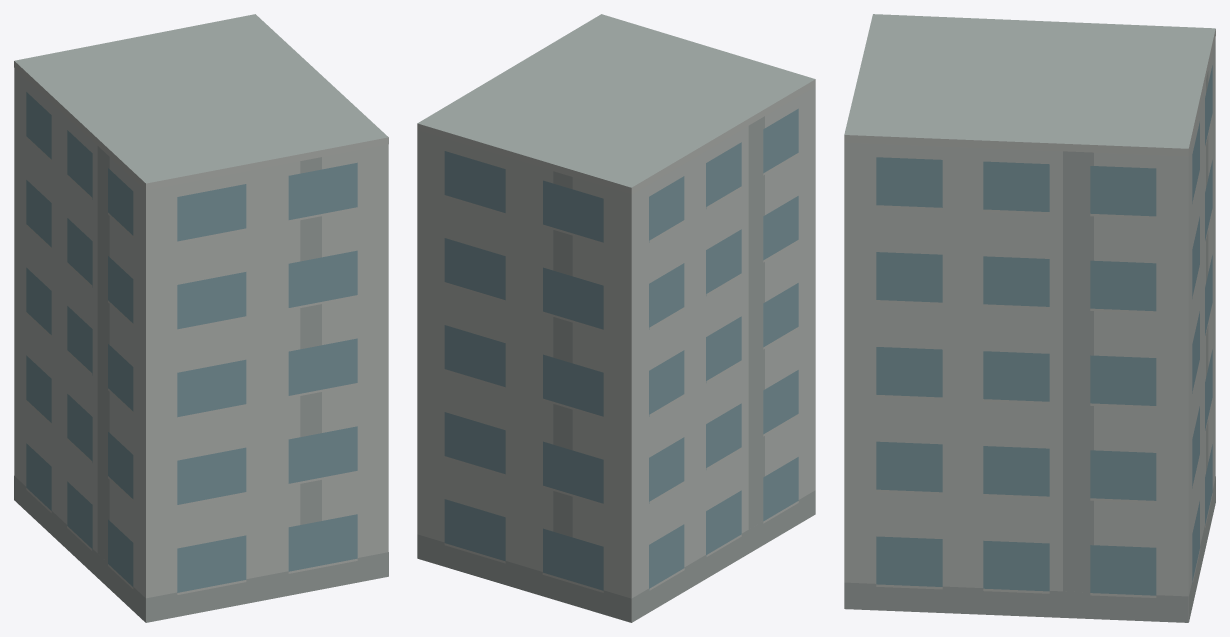
File: survey-upis-32669124.glb
The picture shows the model from 3 angles, left to right: view 1: azimuth 30°, elevation 25°; view 2: azimuth 150°, elevation 25°; view 3: azimuth 270°, elevation 25°; orthographic projection. The views are drawn at different scales.
Parts seen in each view (by area): view 1: survey-upis-32669124.tmp; view 2: survey-upis-32669124.tmp; view 3: survey-upis-32669124.tmp.
Boxes of the visible parts, box(x1,y1,x2,y2) form: survey-upis-32669124.tmp: box(14, 14, 388, 622); survey-upis-32669124.tmp: box(417, 14, 815, 622); survey-upis-32669124.tmp: box(844, 14, 1215, 622).
Size of the model in its own units: 9.31 by 15.25 by 10.84.
